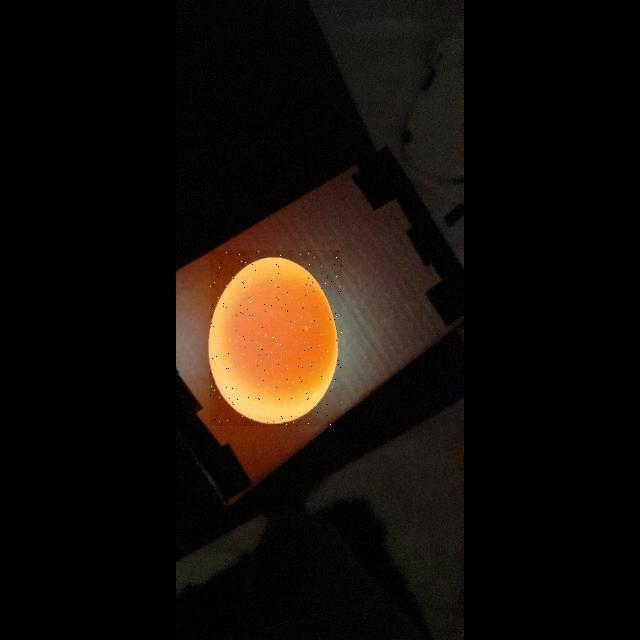Inedible: (209, 254, 341, 428)
